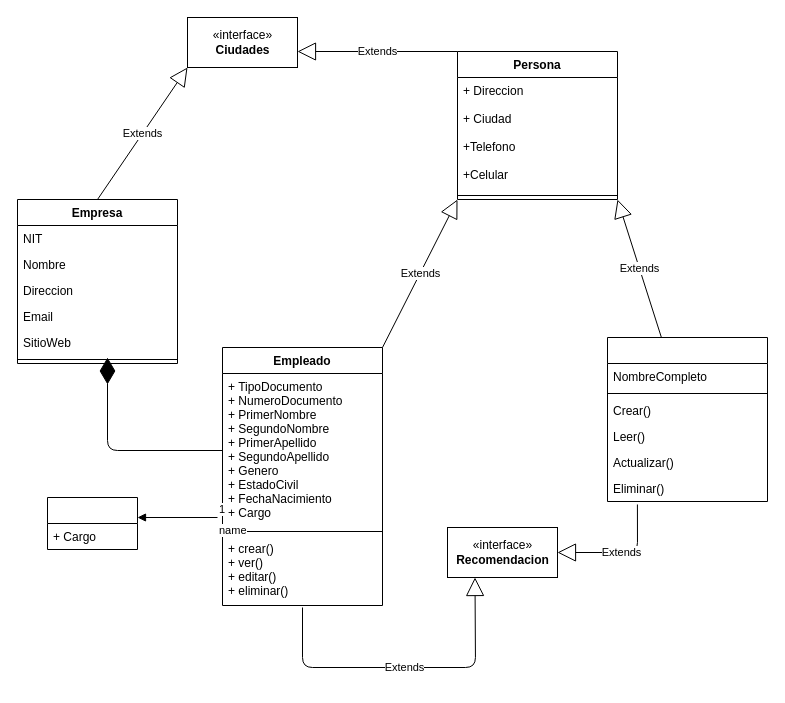
Image size: 785x703. Some labels were removed from this diagram. Here are the shapes that lost their labels. From the top down, the box of each, then its label:
(606, 336, 768, 502): Referencia
(46, 496, 138, 550): Cargos
